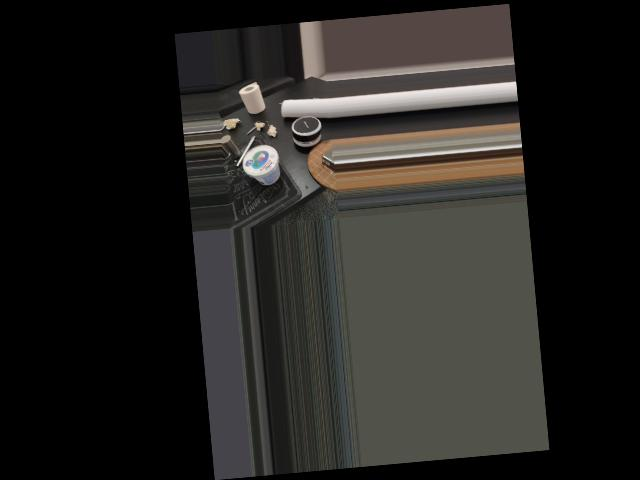cotage: (240, 146, 279, 189)
